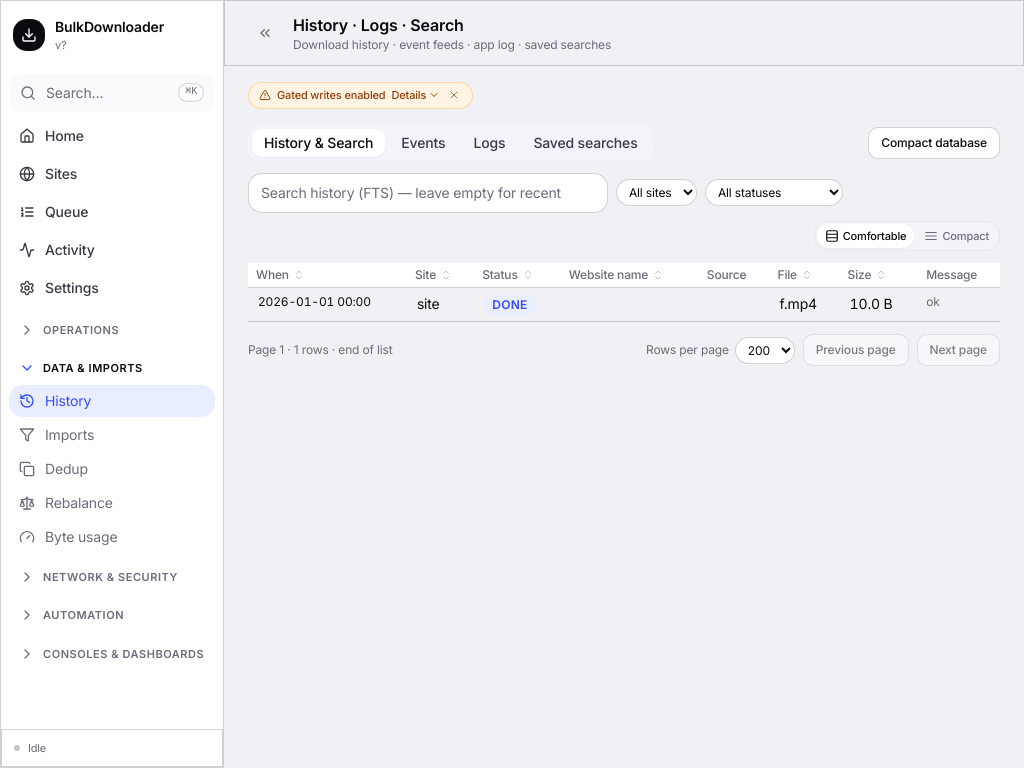
Test: T2 confirmation-gated writes › cancelling the vacuum dialog closes it and sends nothing at all
Click the button "Compact database" at (934, 142), box left=868, top=126, right=1000, bottom=158
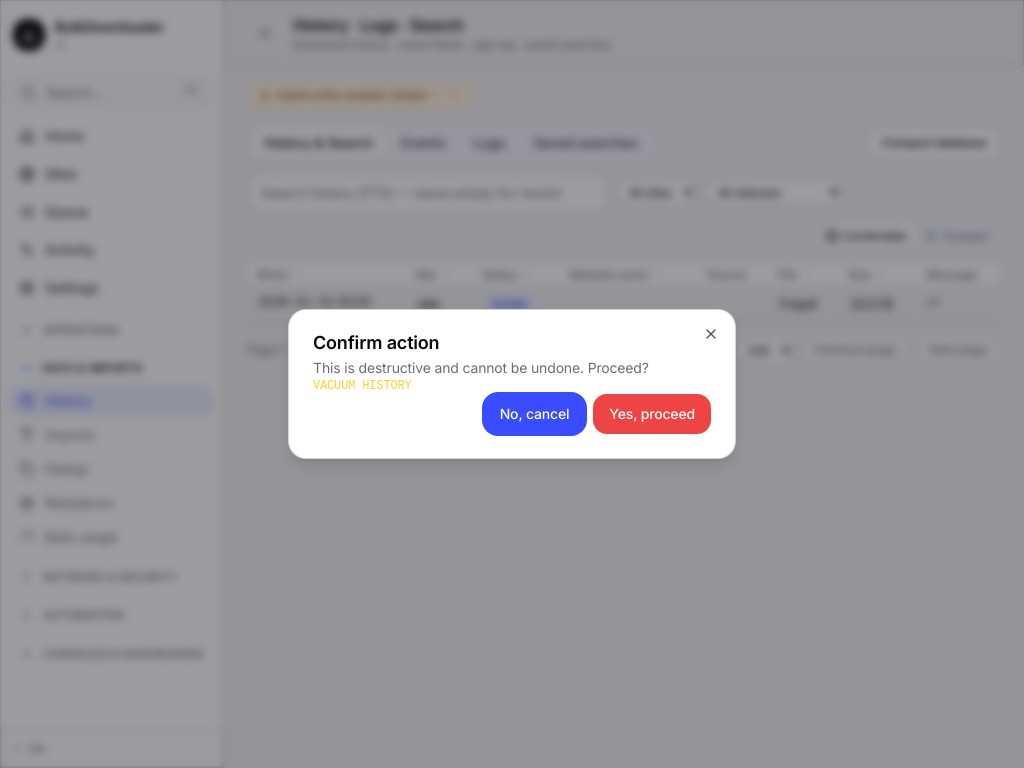
Click the button "No, cancel" at (535, 414), box left=484, top=394, right=585, bottom=434
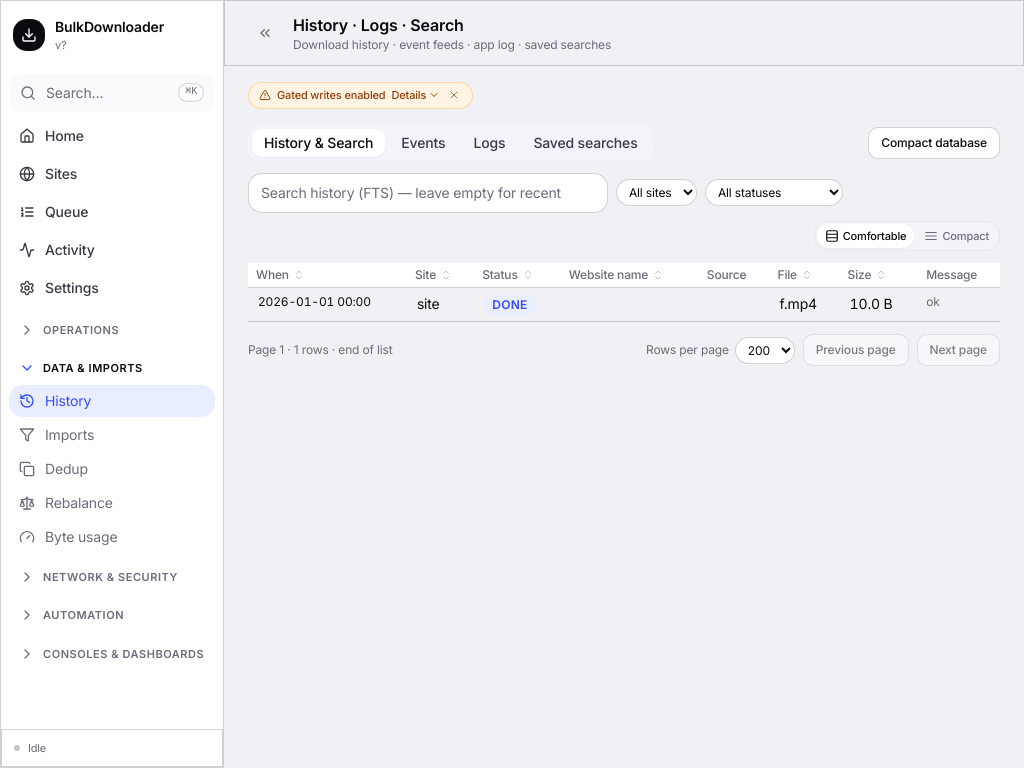
Check: the dialog is gone
